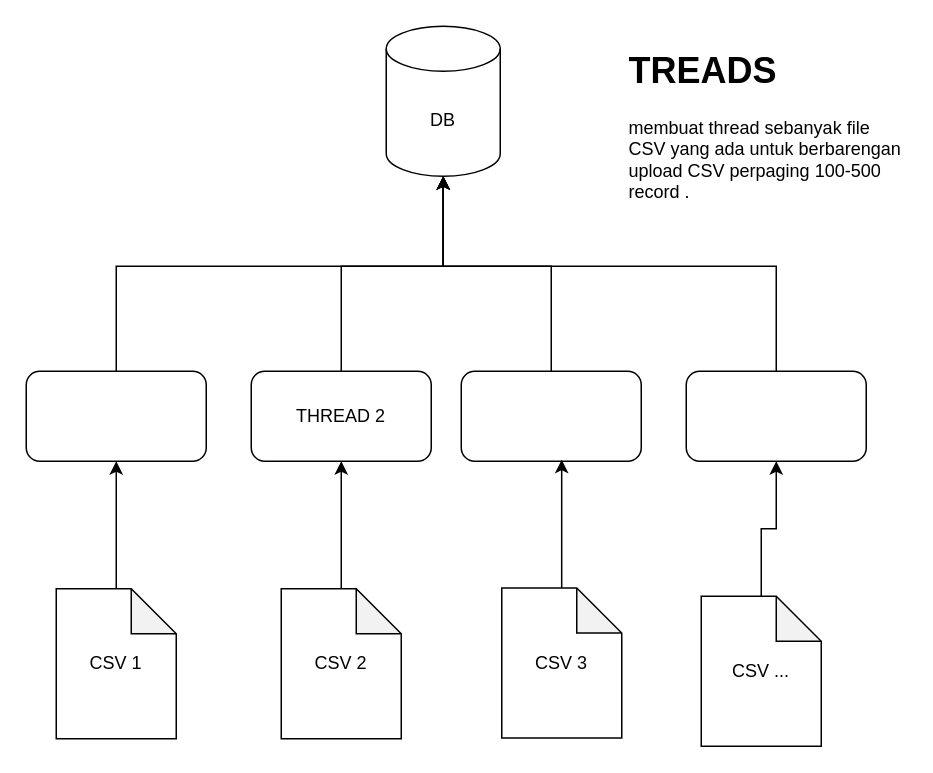
Some shapes in this 933 by 773 pixel diagram are drawn without their labels. Each missing label, with the centre of its shape:
"THREAD ..." belongs at [775,415].
"THREAD 1" belongs at [115,415].
"THREAD 3" belongs at [550,415].
